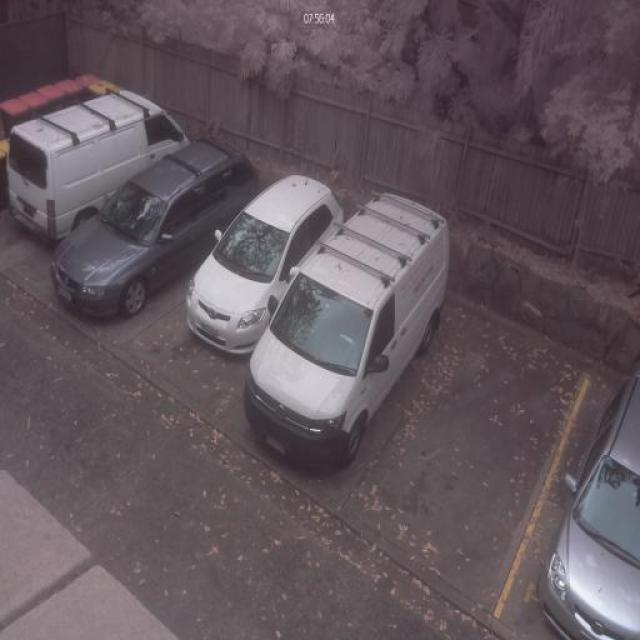Legalparking: (3, 57, 640, 632)
